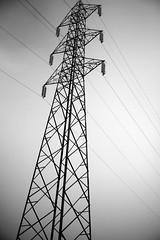power_tower: (21, 0, 103, 240)
